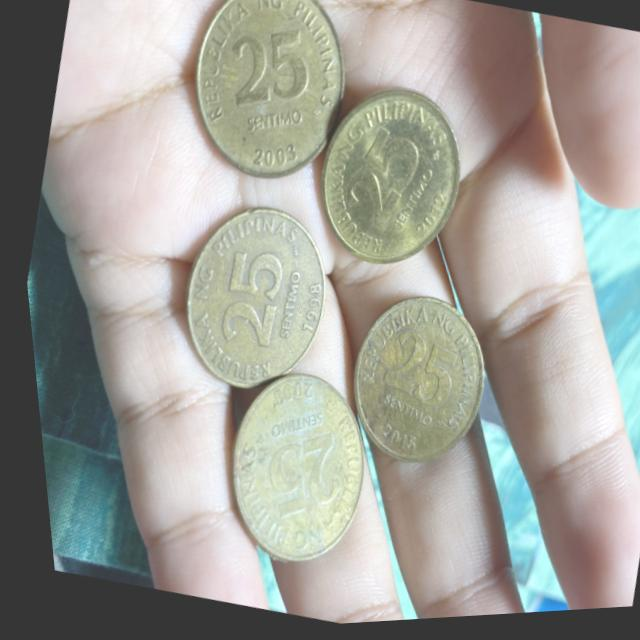25Cent_Old_Front: (329, 122, 430, 239), (219, 18, 323, 130), (202, 242, 289, 362), (244, 422, 343, 525), (363, 324, 460, 419)
